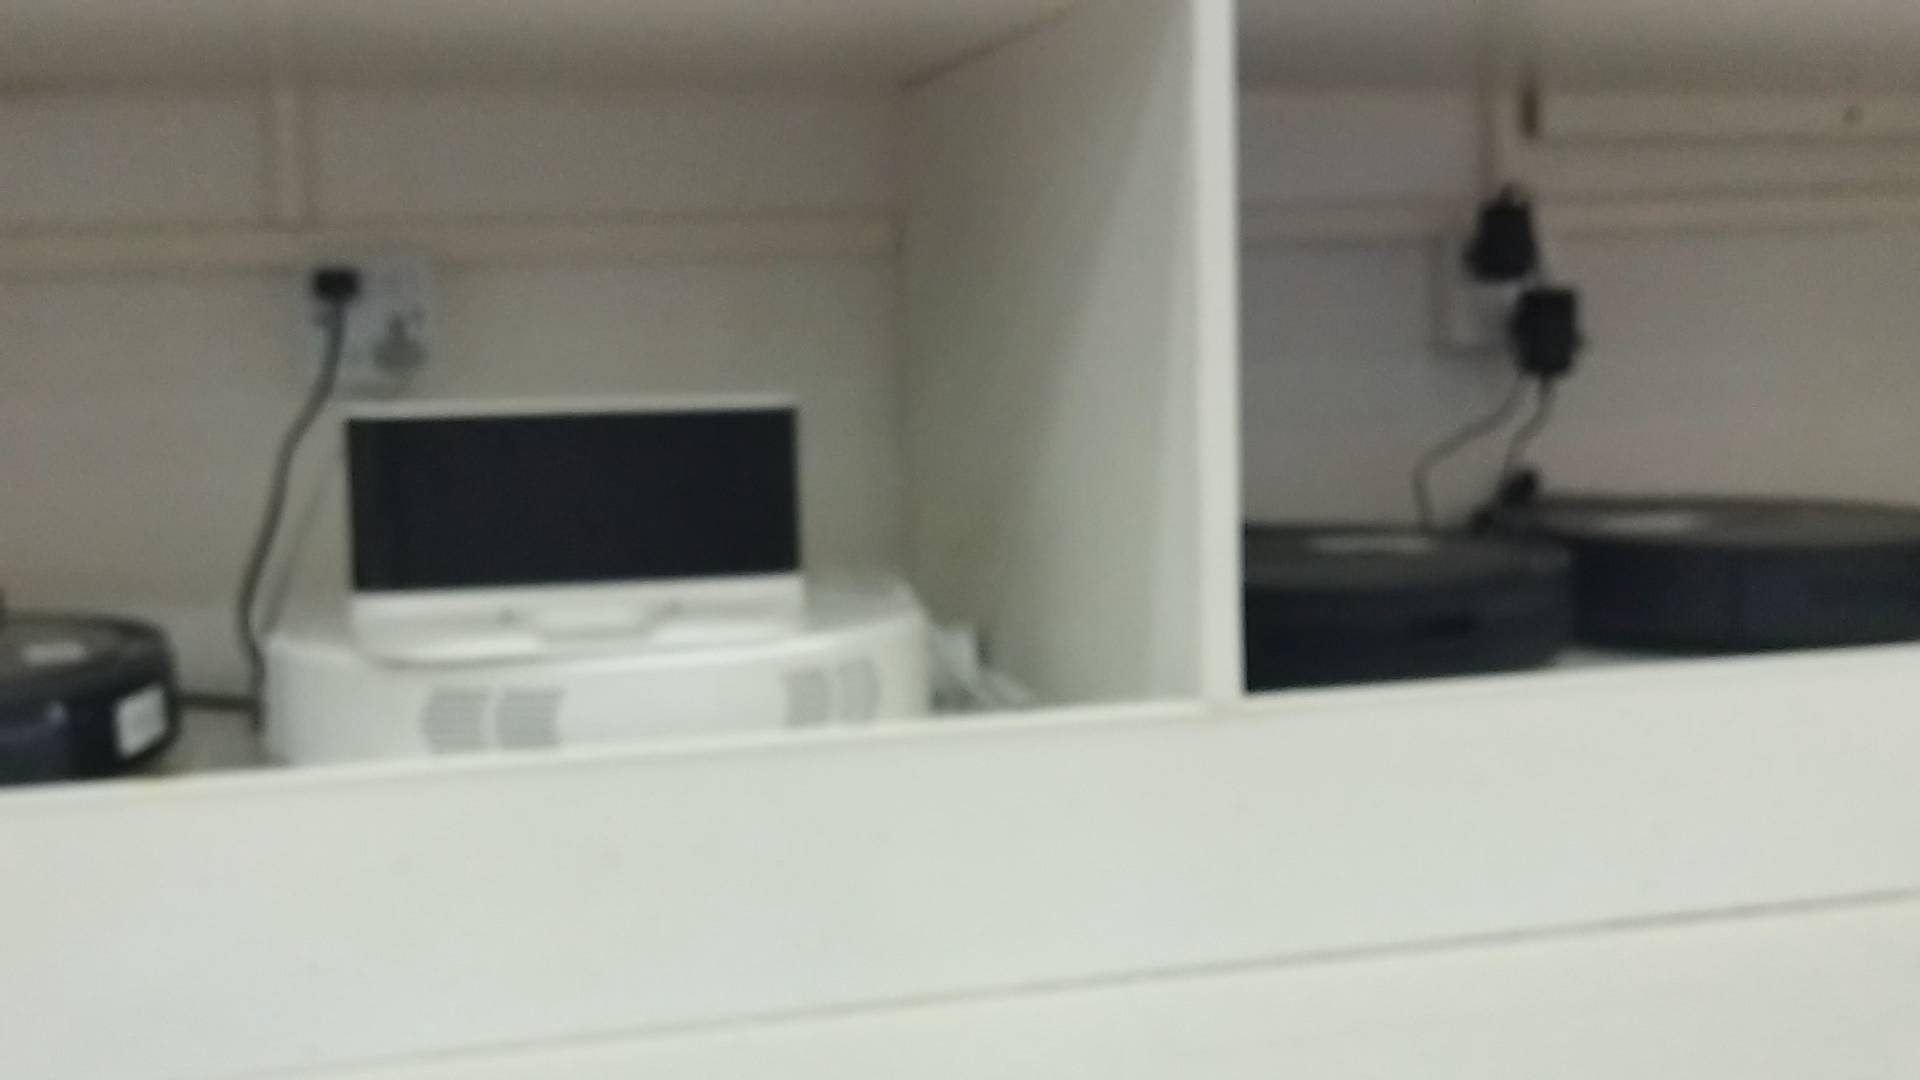recharge seat: (339, 386, 804, 663)
